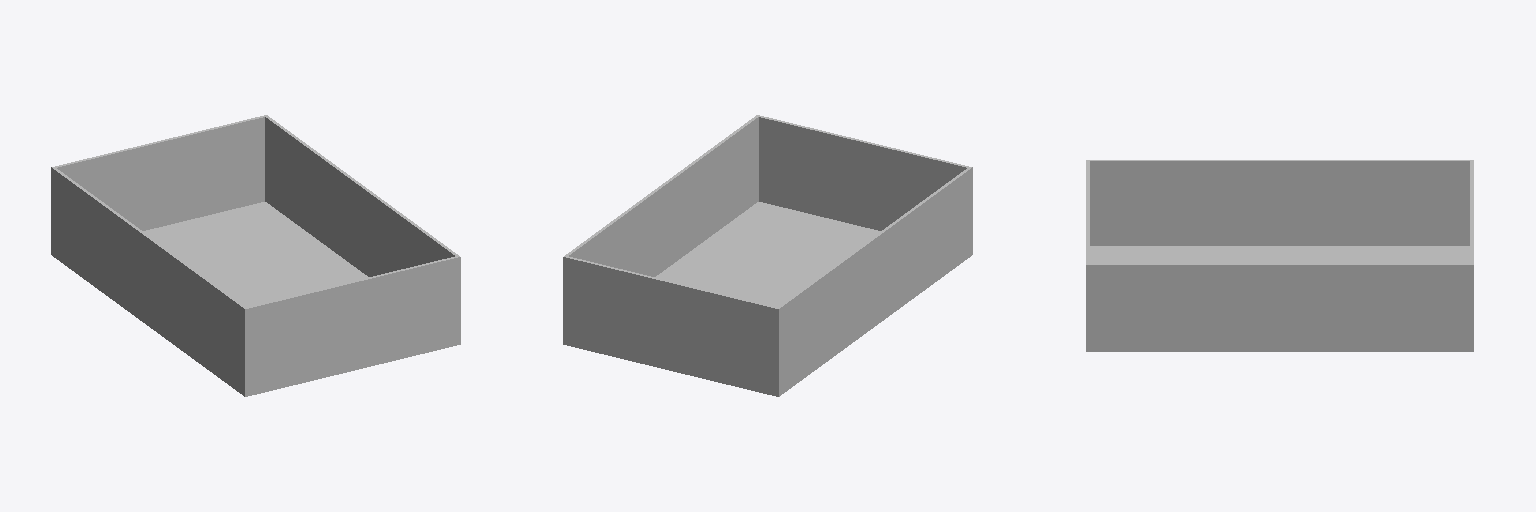
File: level_menu_col.obj
3 views of the same model, side by side, from view 1: azimuth 30°, elevation 25°; view 2: azimuth 150°, elevation 25°; view 3: azimuth 270°, elevation 25° (orthographic).
Visible parts, largest first — view 1: Cube.007_Cube.011, Cube.008_Cube.013, Cube.006_Cube.007, Cube.000_Cube.001, Cube.010_Cube.014; view 2: Cube.006_Cube.007, Cube.008_Cube.013, Cube.007_Cube.011, Cube.000_Cube.001, Cube.010_Cube.014; view 3: Cube.008_Cube.013, Cube.010_Cube.014, Cube.000_Cube.001, Cube.006_Cube.007, Cube.007_Cube.011.
Boxes of the visible parts, x1,y1,x2,y2 form: Cube.007_Cube.011: [244, 256, 460, 393]; Cube.008_Cube.013: [53, 168, 245, 392]; Cube.006_Cube.007: [51, 115, 267, 252]; Cube.000_Cube.001: [51, 202, 460, 396]; Cube.010_Cube.014: [265, 116, 458, 276]; Cube.006_Cube.007: [563, 256, 779, 393]; Cube.008_Cube.013: [778, 168, 970, 392]; Cube.007_Cube.011: [756, 115, 972, 252]; Cube.000_Cube.001: [563, 202, 972, 396]; Cube.010_Cube.014: [565, 116, 758, 276]; Cube.008_Cube.013: [1090, 160, 1469, 245]; Cube.010_Cube.014: [1090, 263, 1469, 348]; Cube.000_Cube.001: [1086, 246, 1473, 351]; Cube.006_Cube.007: [1470, 160, 1473, 348]; Cube.007_Cube.011: [1086, 160, 1089, 348].
Size of the model in its own units: 11.8 by 4.6 by 18.4.